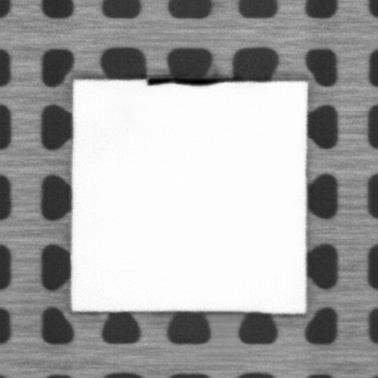DIE_BROKEN: (145, 76, 232, 88)
